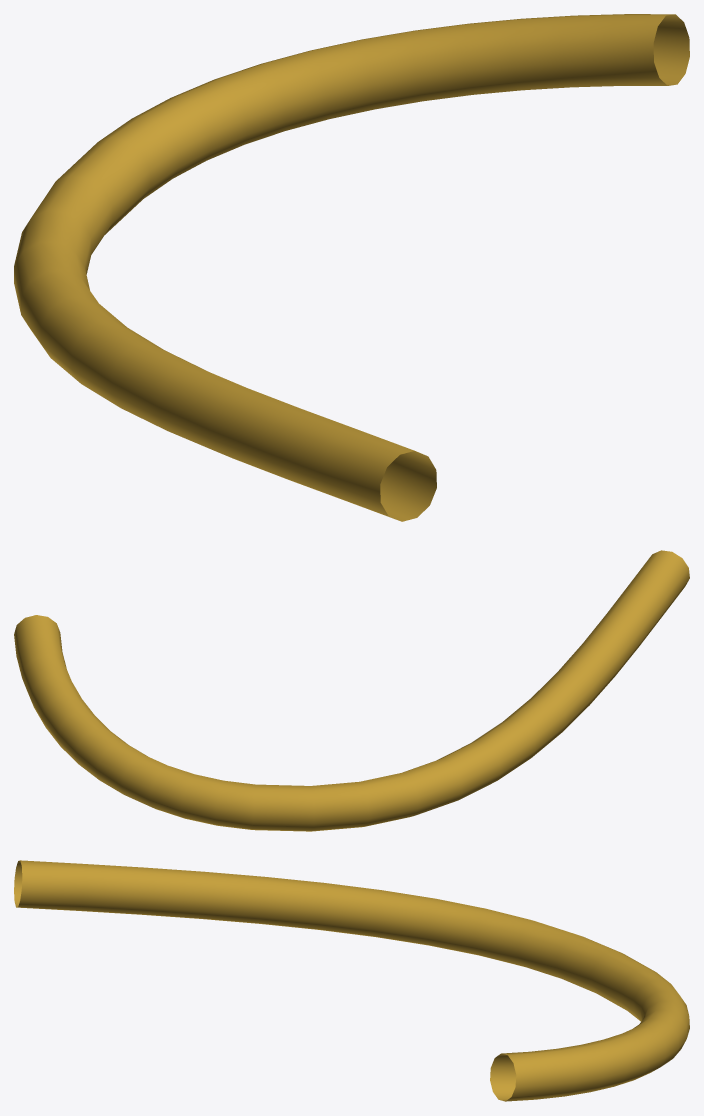
The picture shows the model from 3 angles, top to bottom: view 1: azimuth 30°, elevation 25°; view 2: azimuth 150°, elevation 25°; view 3: azimuth 270°, elevation 25°; orthographic projection. The views are drawn at different scales.
Parts seen in each view (by area): view 1: 右侧正中神经与尺神经交通支; view 2: 右侧正中神经与尺神经交通支; view 3: 右侧正中神经与尺神经交通支.
Part boxes in pixels (<box>): 右侧正中神经与尺神经交通支: <box>14,14,689,521</box>; 右侧正中神经与尺神经交通支: <box>14,550,689,831</box>; 右侧正中神经与尺神经交通支: <box>14,860,689,1101</box>.
Size of the model in its own units: 0.0169 by 0.00352 by 0.0206.
